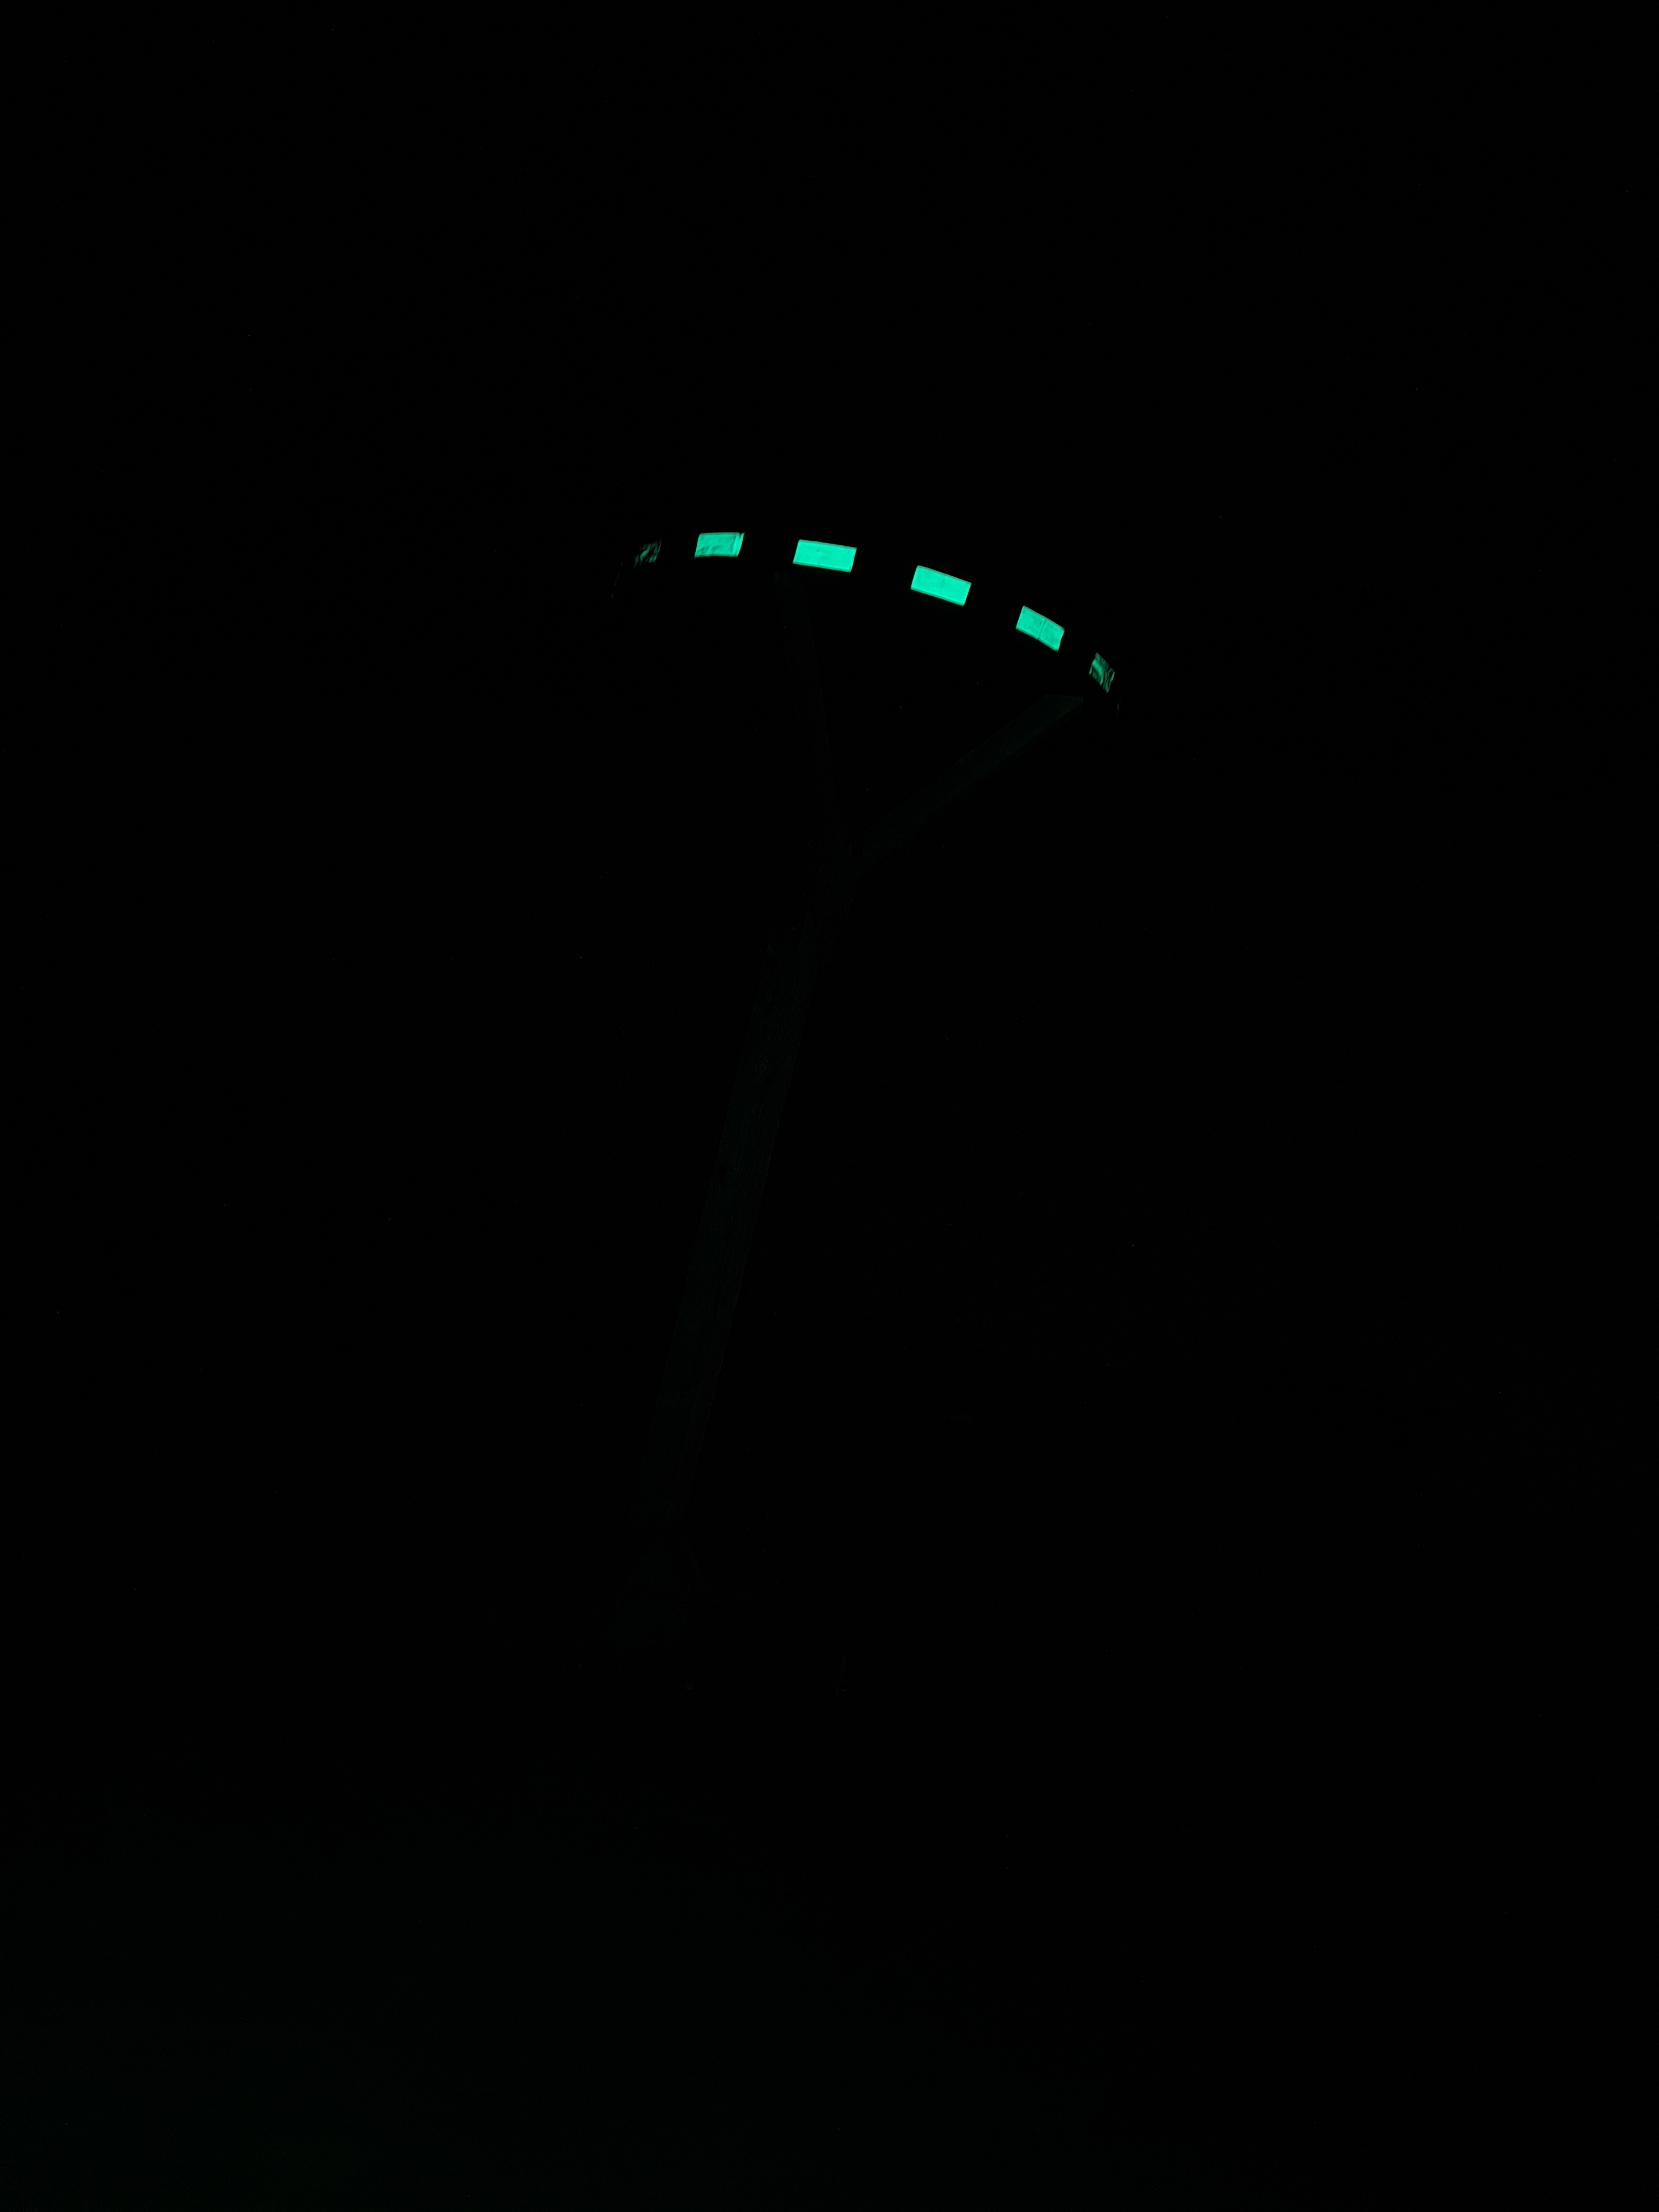hoop: (601, 502, 1134, 719)
